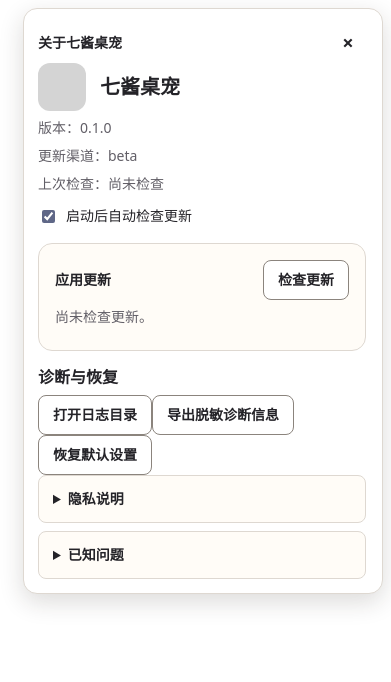
UpdatePanel › does not claim old settings survived when reset partially fails
Click the button "恢复默认设置": (95, 455) [38, 435, 152, 475]
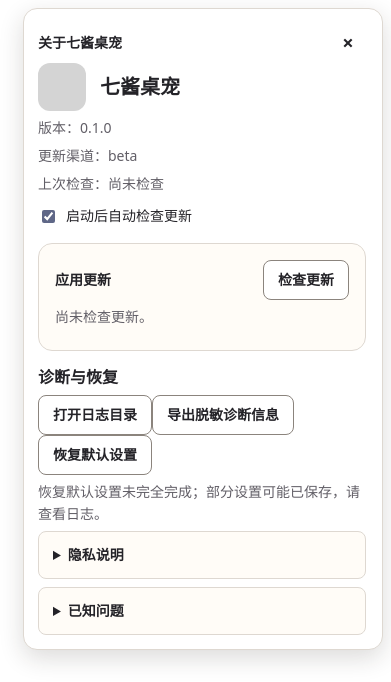
expect the text "恢复默认设置未完全完成；部分设置可能已保存，请查看日志。" is shown: met, box [38, 481, 366, 525]
